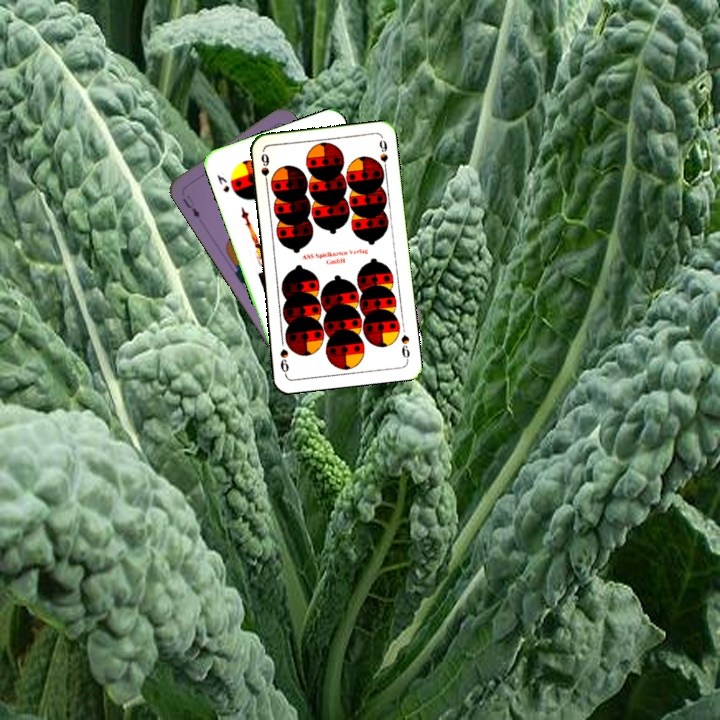EU: (178, 194, 202, 221)
S9: (257, 149, 272, 189), (397, 331, 412, 363)
SK: (213, 171, 232, 195)
